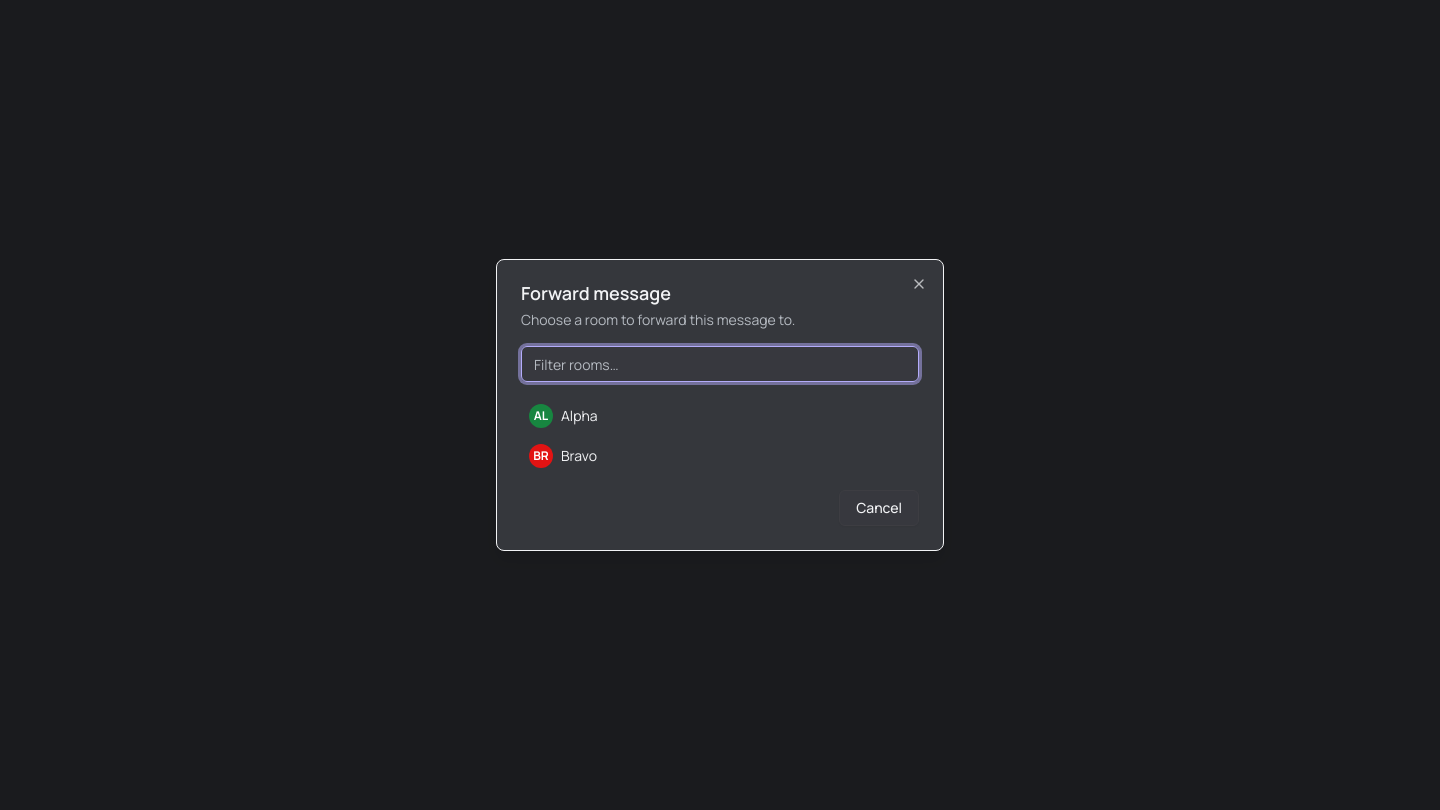
Test: ForwardMessageDialog › filters rooms by name
The image size is (1440, 810).
Expected: the text "Alpha" is shown, [561, 406, 598, 426]
Step 1. Type "brav" into the field with placeholder "Filter rooms…" → (720, 364), box [521, 346, 919, 382]
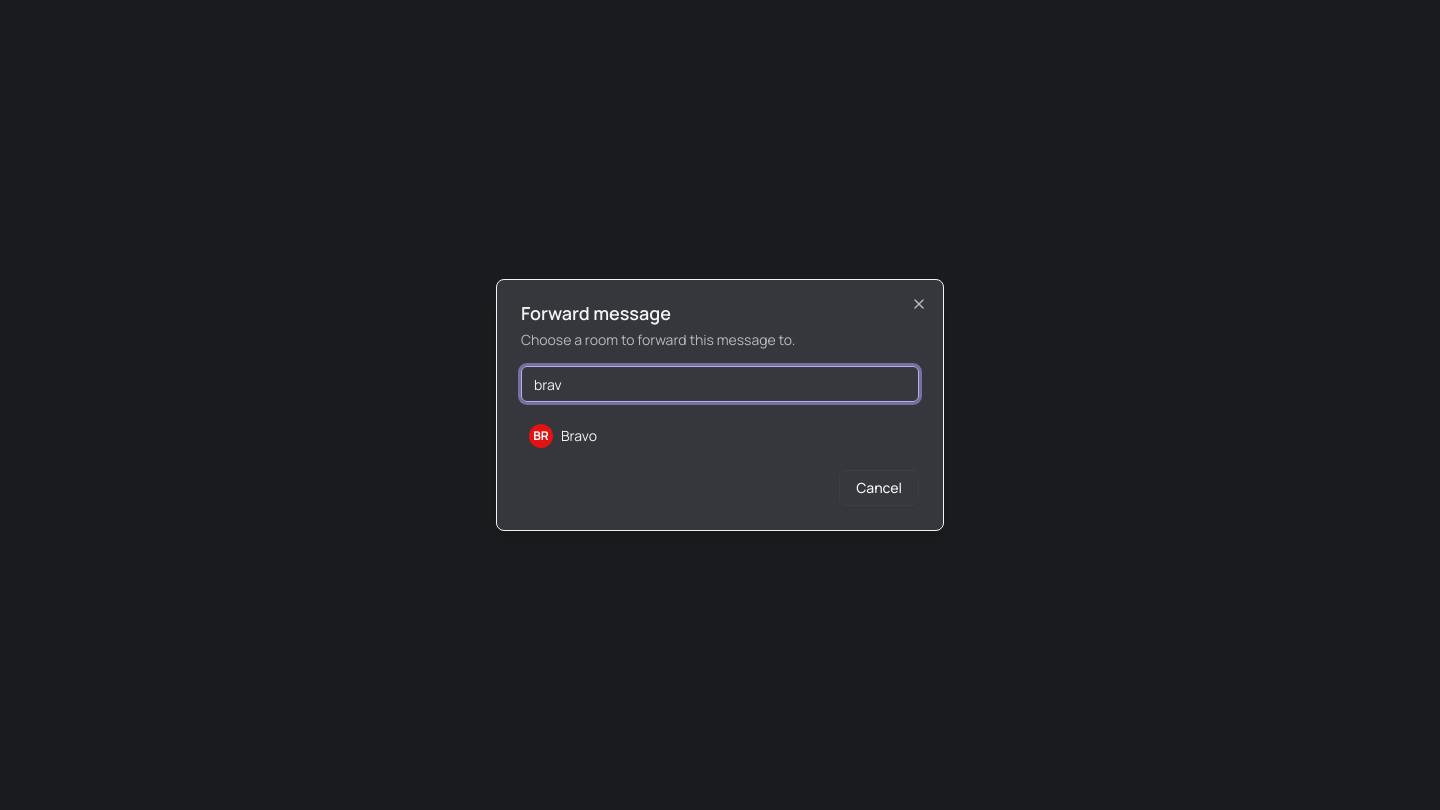
Expected: the text "Bravo" is shown, [561, 426, 597, 446]
Result: the button "Alpha" is gone
